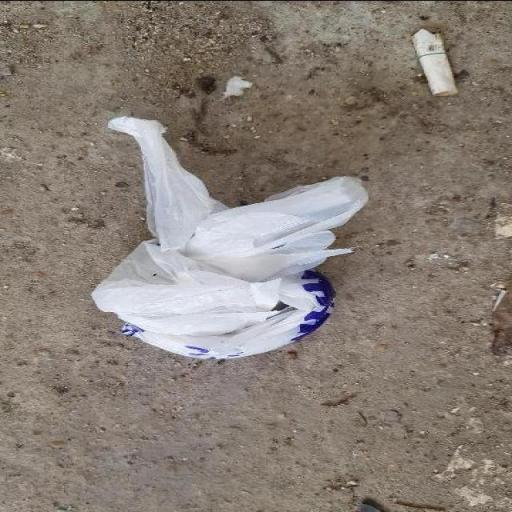plastic-bag: (88, 114, 372, 358)
